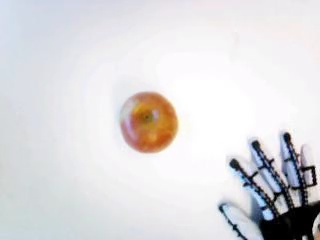apple: (118, 90, 178, 153)
hand: (219, 131, 320, 240)
